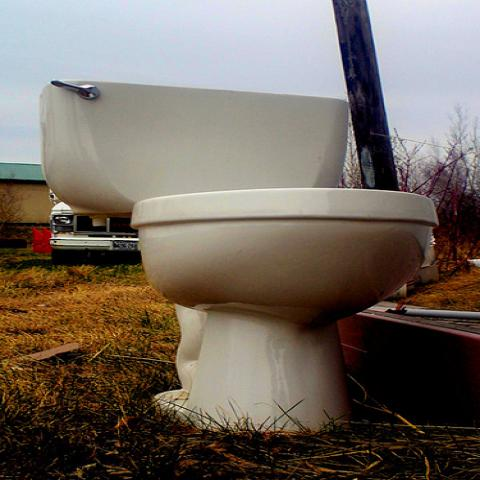truck: (49, 188, 142, 267)
